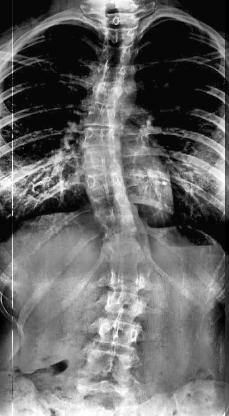Vertebrae: (98, 316, 144, 348), (88, 348, 136, 378), (105, 288, 155, 316), (104, 237, 152, 265), (84, 174, 132, 200), (100, 212, 144, 238), (84, 150, 126, 176), (81, 127, 125, 150), (112, 267, 154, 291), (86, 104, 122, 130), (96, 199, 140, 220), (95, 82, 129, 108), (102, 24, 138, 46), (104, 43, 136, 65), (100, 63, 132, 83), (100, 13, 138, 28)
